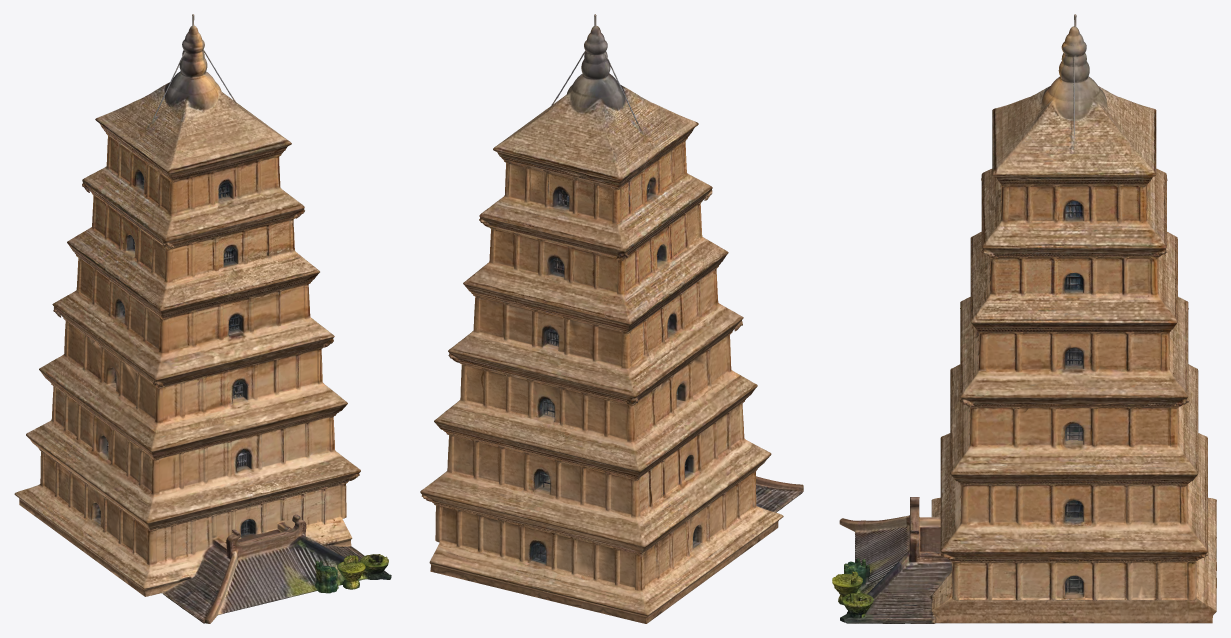
Rendered from dayanta.glb.
3 renders of one model, left to right at view 1: azimuth 30°, elevation 25°; view 2: azimuth 150°, elevation 25°; view 3: azimuth 270°, elevation 25°, orthographic. The views are drawn at different scales.
Visible parts, largest first — view 1: tripo_node_0801fdca-19ba-499a-907f-3d93aa2cc462; view 2: tripo_node_0801fdca-19ba-499a-907f-3d93aa2cc462; view 3: tripo_node_0801fdca-19ba-499a-907f-3d93aa2cc462.
Boxes of the visible parts, x1=… form: tripo_node_0801fdca-19ba-499a-907f-3d93aa2cc462: x1=14, y1=14, x2=391, y2=623; tripo_node_0801fdca-19ba-499a-907f-3d93aa2cc462: x1=420, y1=14, x2=803, y2=623; tripo_node_0801fdca-19ba-499a-907f-3d93aa2cc462: x1=832, y1=14, x2=1216, y2=623.
Size of the model in its own units: 0.4469 by 0.9815 by 0.6112.
1 material, 1 textured.
